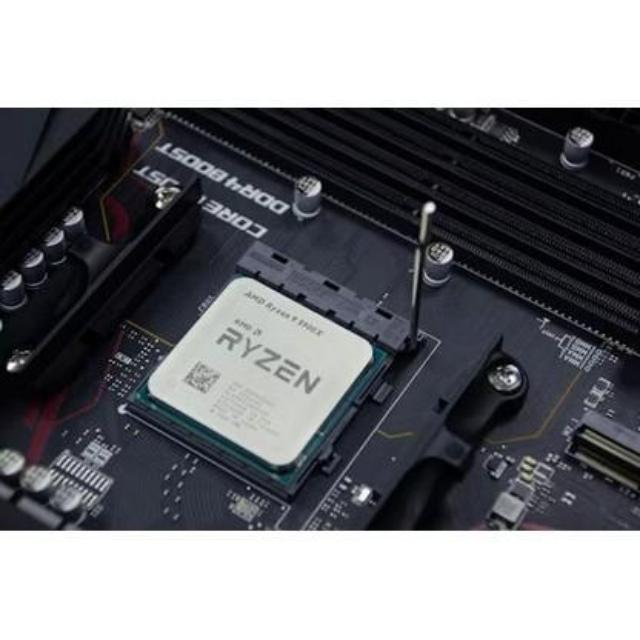CPU: (138, 276, 378, 478)
